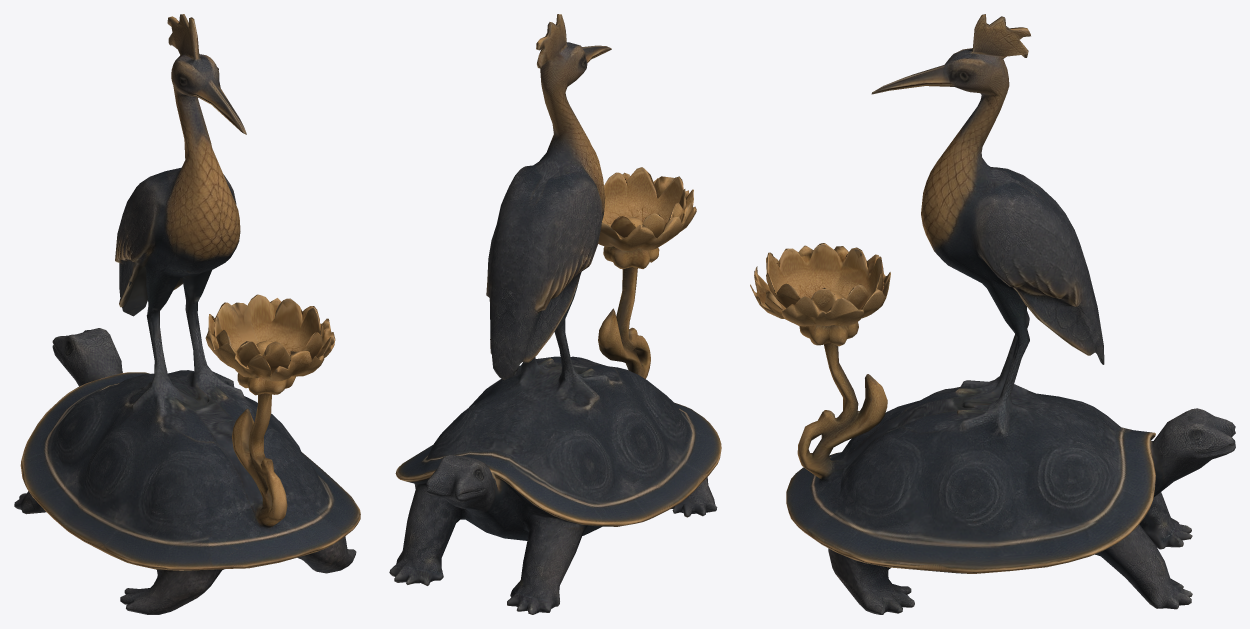
The model's file is cap-hac-rua.glb.
3 renders of one model, left to right at view 1: azimuth 30°, elevation 25°; view 2: azimuth 150°, elevation 25°; view 3: azimuth 270°, elevation 25°, orthographic. The views are drawn at different scales.
Bounding box in the file's own units: 0.9273 × 1.9 × 1.5.
Materials: 1 (1 with a texture image).
